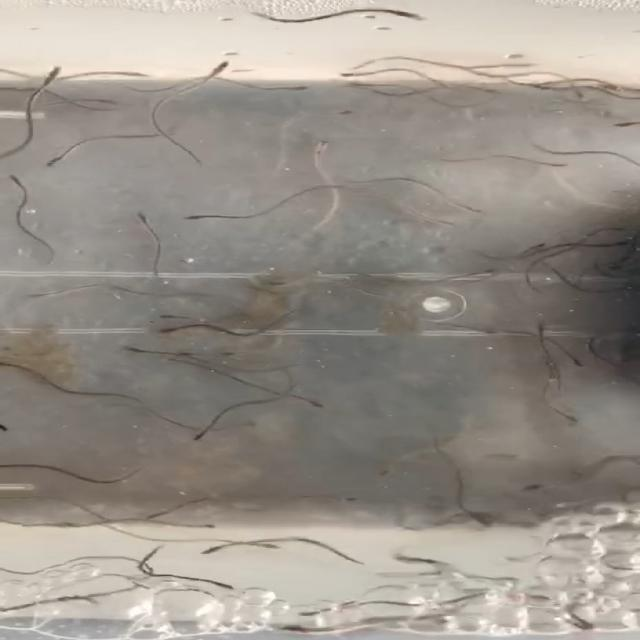active_glass_eel: (376, 6, 433, 24), (36, 62, 64, 96), (201, 58, 234, 86), (258, 80, 312, 96), (296, 601, 348, 617), (277, 109, 321, 126), (1, 171, 37, 190), (40, 150, 74, 170), (297, 398, 339, 414), (526, 321, 558, 342), (179, 209, 221, 224), (462, 513, 497, 531), (589, 78, 621, 97), (131, 209, 163, 228), (281, 621, 317, 637), (189, 425, 215, 445), (140, 508, 177, 522), (203, 576, 235, 592), (450, 203, 484, 218), (561, 414, 589, 432), (509, 483, 554, 494), (476, 264, 503, 282), (600, 118, 640, 130), (420, 216, 460, 228), (85, 95, 128, 106), (197, 540, 228, 555), (197, 520, 230, 534), (517, 80, 552, 93), (478, 86, 514, 98), (312, 134, 338, 150), (522, 241, 556, 253), (158, 311, 198, 321), (18, 292, 58, 302), (568, 85, 590, 103), (339, 69, 366, 83), (534, 158, 567, 169), (123, 345, 158, 355), (251, 276, 286, 286), (612, 236, 636, 249), (571, 355, 593, 369), (606, 224, 630, 236), (161, 324, 186, 335), (252, 543, 282, 552), (608, 258, 627, 272)
